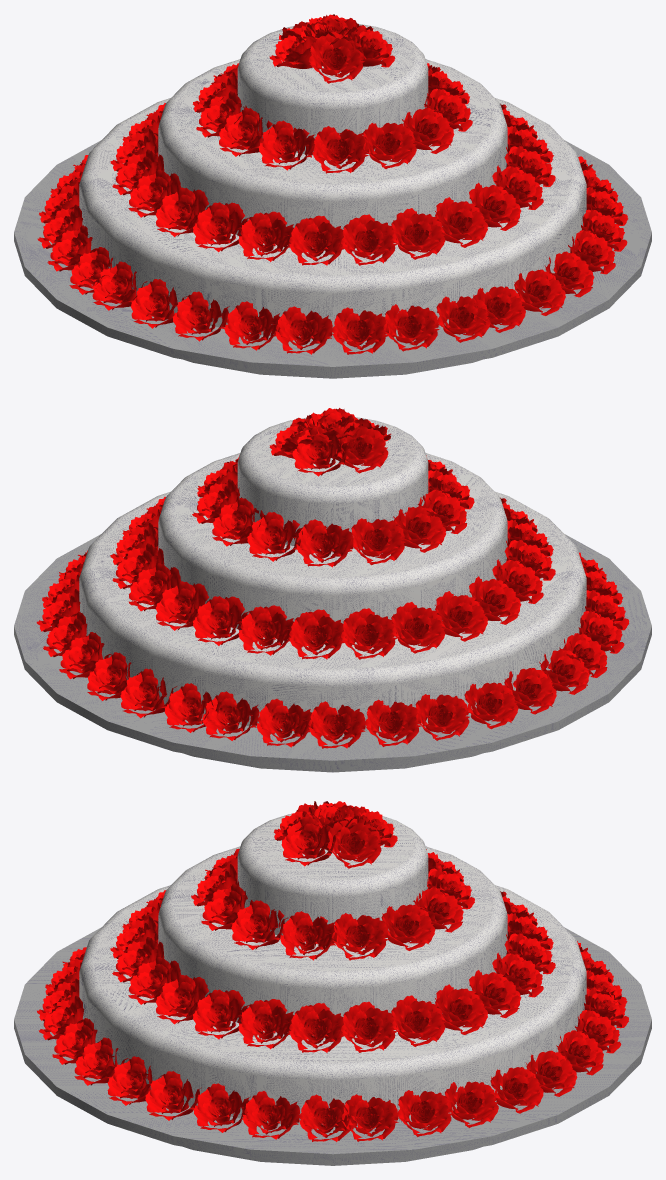
The picture shows the model from 3 angles, top to bottom: view 1: azimuth 30°, elevation 25°; view 2: azimuth 150°, elevation 25°; view 3: azimuth 270°, elevation 25°; orthographic projection.
Visible parts, largest first — view 1: Component_1 (×3), Component_3 (×2), Component_2 (×11); view 2: Component_1 (×3), Component_3 (×2), Component_2 (×11); view 3: Component_1 (×3), Component_3 (×2), Component_2 (×12).
Boxes of the visible parts, x1,y1,x2,y2 form: Component_1 (×3): (79, 23, 586, 339); Component_3 (×2): (14, 140, 651, 378); Component_2 (×11): (156, 32, 487, 354); Component_1 (×3): (79, 417, 586, 731); Component_3 (×2): (14, 534, 651, 772); Component_2 (×11): (156, 427, 487, 748); Component_1 (×3): (79, 813, 586, 1124); Component_3 (×2): (14, 927, 651, 1165); Component_2 (×12): (156, 817, 487, 1139).
Size of the model in its own units: 125 by 125 by 51.43.
